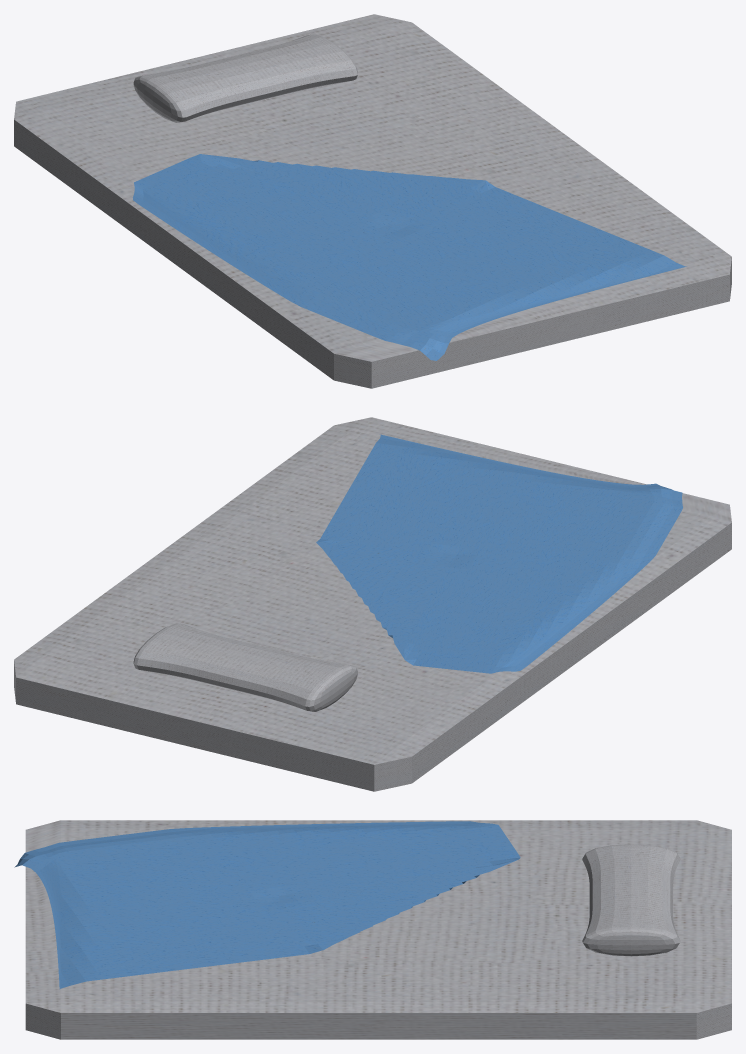
File: comp_bed.glb
3 views of the same model, one above another, from view 1: azimuth 30°, elevation 25°; view 2: azimuth 150°, elevation 25°; view 3: azimuth 270°, elevation 25° (orthographic).
Visible parts, largest first — view 1: Mattress, Blanket, Cube; view 2: Mattress, Blanket, Cube; view 3: Mattress, Blanket, Cube.
Part boxes in pixels (<box>): Mattress: <box>14,14,731,388</box>; Blanket: <box>132,154,686,360</box>; Cube: <box>133,34,357,122</box>; Mattress: <box>14,417,731,791</box>; Blanket: <box>316,434,682,673</box>; Cube: <box>133,623,357,711</box>; Mattress: <box>25,820,731,1039</box>; Blanket: <box>14,821,520,989</box>; Cube: <box>582,844,680,956</box>.
Size of the model in its own units: 2.97 by 0.4212 by 4.66.
3 materials, 3 textured.
